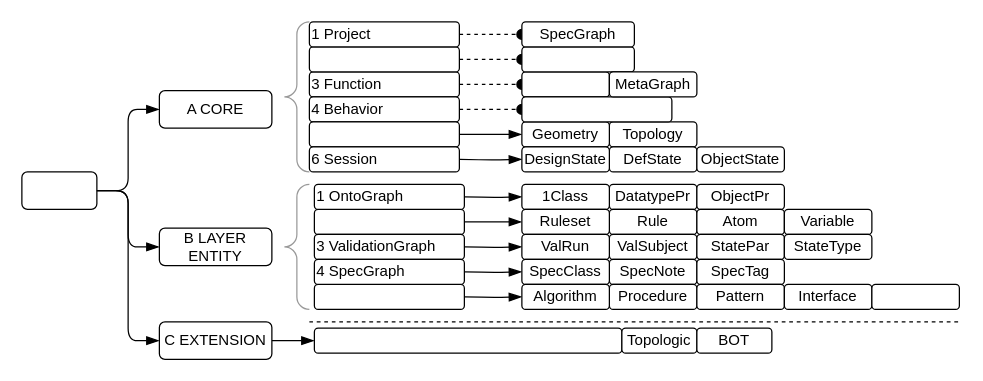
The diagram is 983 pixels wide and 381 high, and some of its shapes have lost their labels. The shapes that lost their labels are listed below. From the top down, each one's box as (x1, y1, x2, y2) in pixels, then its label:
(308, 46, 459, 72): 2 Object
(521, 46, 634, 72): ValidationGraph
(521, 71, 609, 97): OntoGraph
(521, 96, 672, 122): ComputationGraph
(308, 121, 459, 147): 5 Structure
(21, 171, 97, 209): owl: Thing
(313, 208, 464, 234): 2 MetaGraph
(313, 283, 464, 309): 5 ComputationGraph
(871, 283, 959, 309): Parameter
(313, 327, 622, 353): Standard (OWL, RDF, FBS, SWRL,SHACL)
